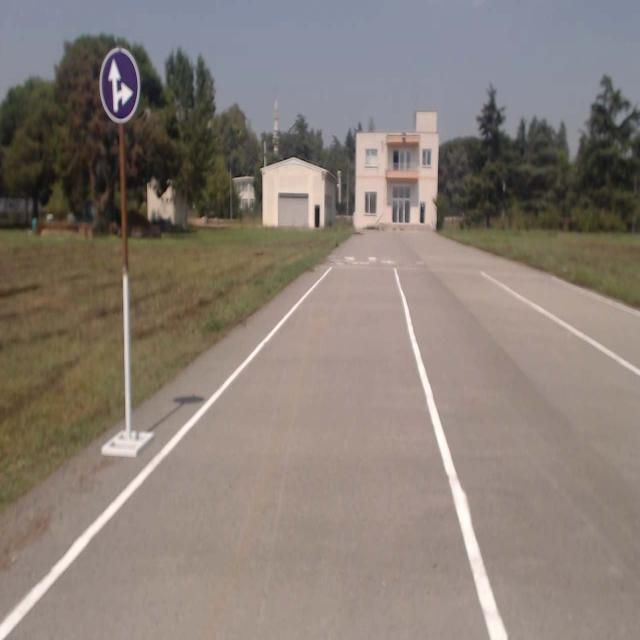ilerisag: (100, 50, 138, 119)
